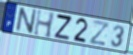2: (72, 18, 88, 44)
3: (110, 25, 126, 48)
H: (33, 8, 56, 40)
N: (15, 6, 38, 35)
Z: (88, 19, 111, 47), (54, 14, 73, 42)
